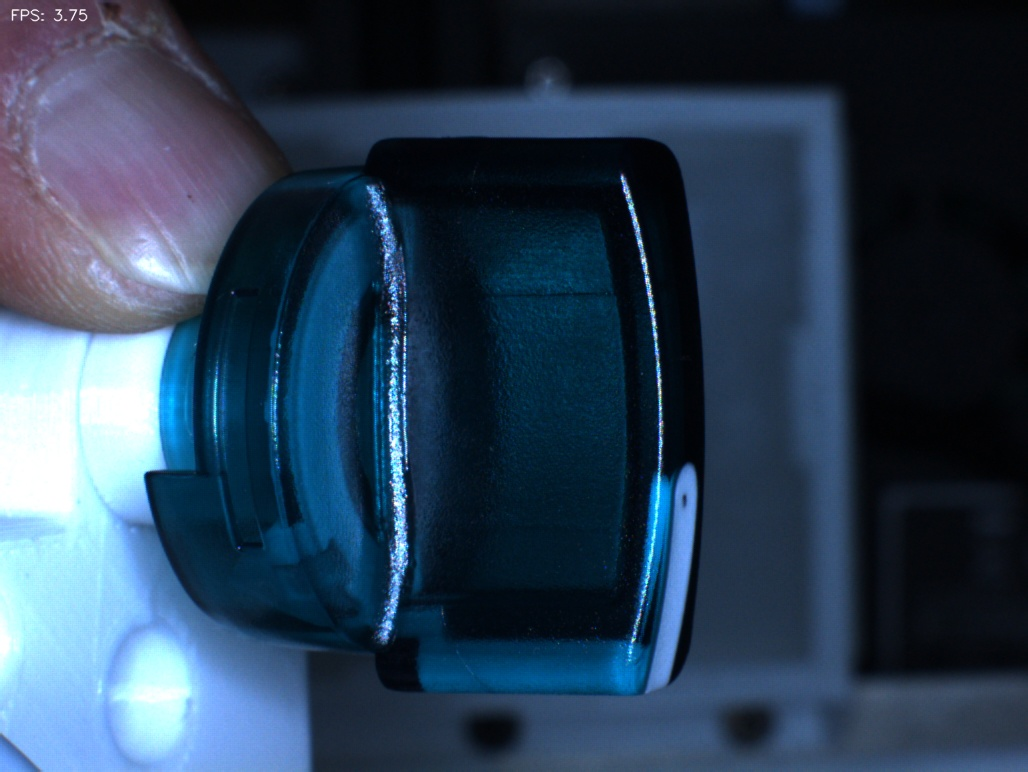PointNoir: (636, 435, 725, 550)
